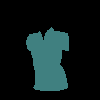polo: (26, 26, 69, 91)
